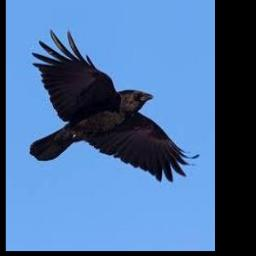Crow: (29, 29, 200, 181)
